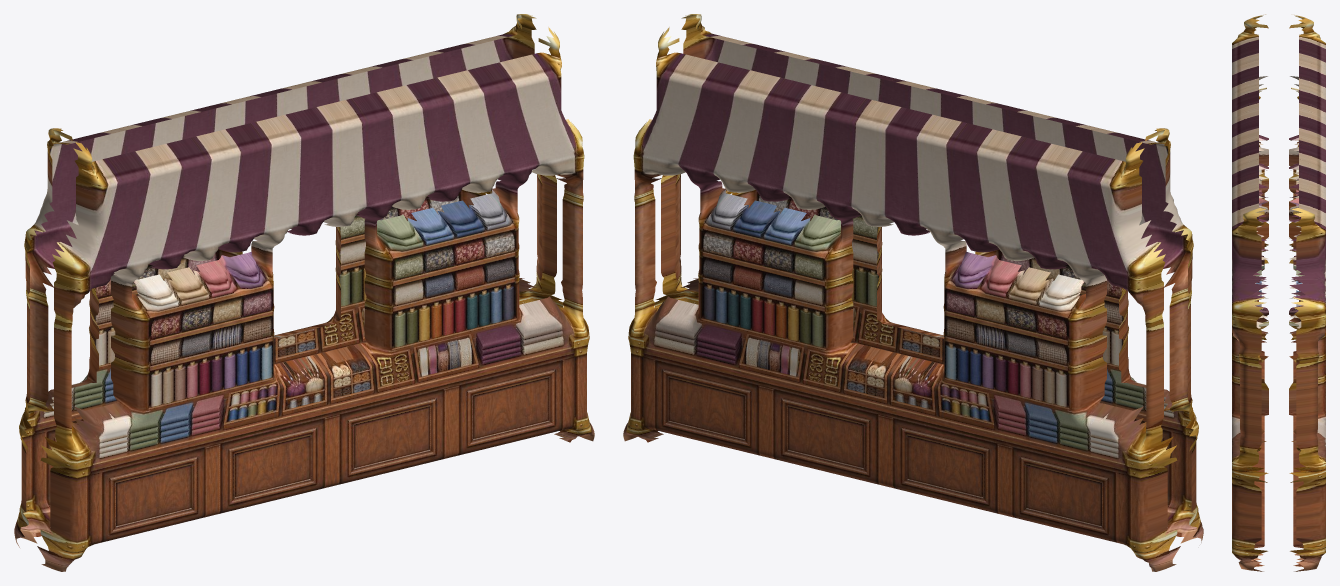
File: v4-market-square-scatter-cloth-stall.glb
3 renders of one model, left to right at view 1: azimuth 30°, elevation 25°; view 2: azimuth 150°, elevation 25°; view 3: azimuth 270°, elevation 25°, orthographic. The views are drawn at different scales.
Visible parts, largest first — view 1: v4-market-square-scatter-cloth-stall; view 2: v4-market-square-scatter-cloth-stall; view 3: v4-market-square-scatter-cloth-stall.
Boxes of the visible parts, x1,y1,x2,y2 form: v4-market-square-scatter-cloth-stall: (14,14,594,571); v4-market-square-scatter-cloth-stall: (623,14,1203,571); v4-market-square-scatter-cloth-stall: (1232,14,1325,571).
Bounding box in the file's own units: 1.37 × 0.9817 × 0.24.
Materials: 1 (1 with a texture image).
